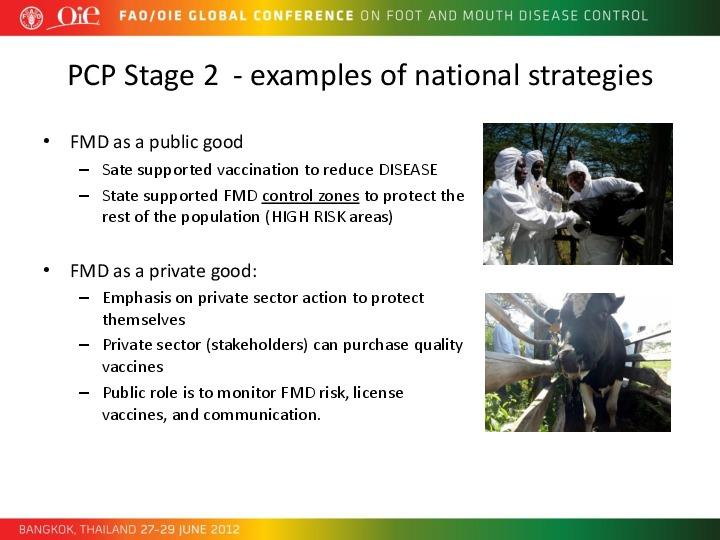paragraph: (30, 125, 479, 462)
subtitle: (60, 51, 661, 100)
title: (115, 3, 652, 29)
